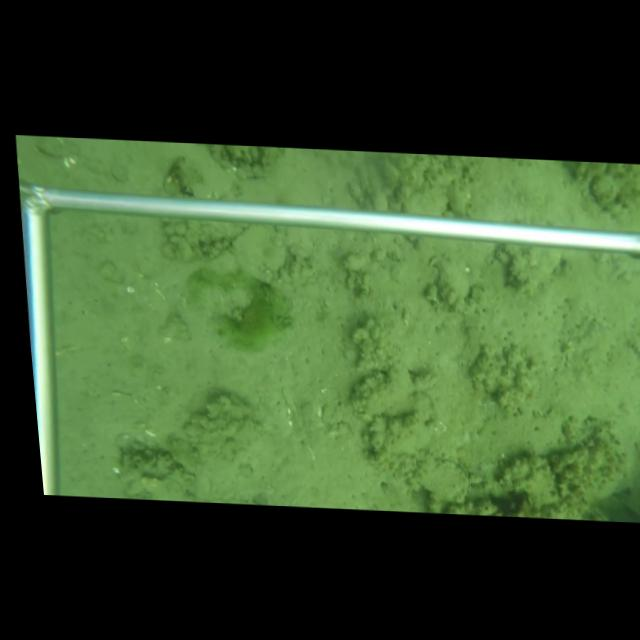Oyster-Closed: (406, 454, 473, 504)
Oyster-Indeterminate: (173, 155, 236, 200), (509, 247, 569, 292), (434, 258, 474, 306)
